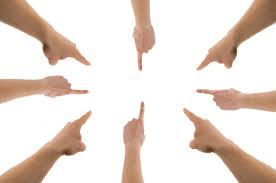hand: (39, 21, 98, 72), (184, 30, 243, 80), (53, 109, 96, 159), (175, 105, 214, 159), (180, 84, 250, 114), (116, 97, 155, 150), (128, 18, 159, 79), (37, 70, 92, 101)
